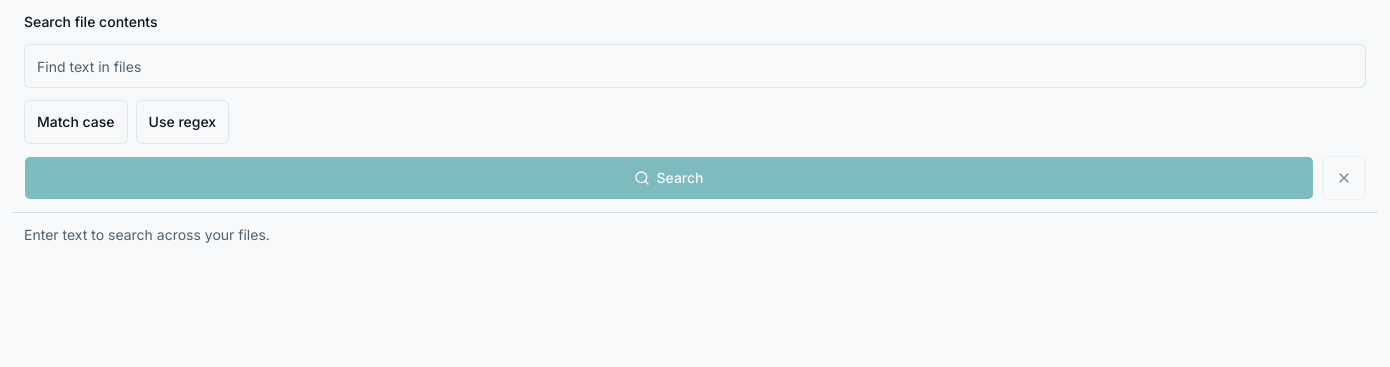
labels Solution hits read-only and does not open them as workspace files
Type "items" into the field. click: (695, 66)
box: [24,44,1366,88]
Then press Enter
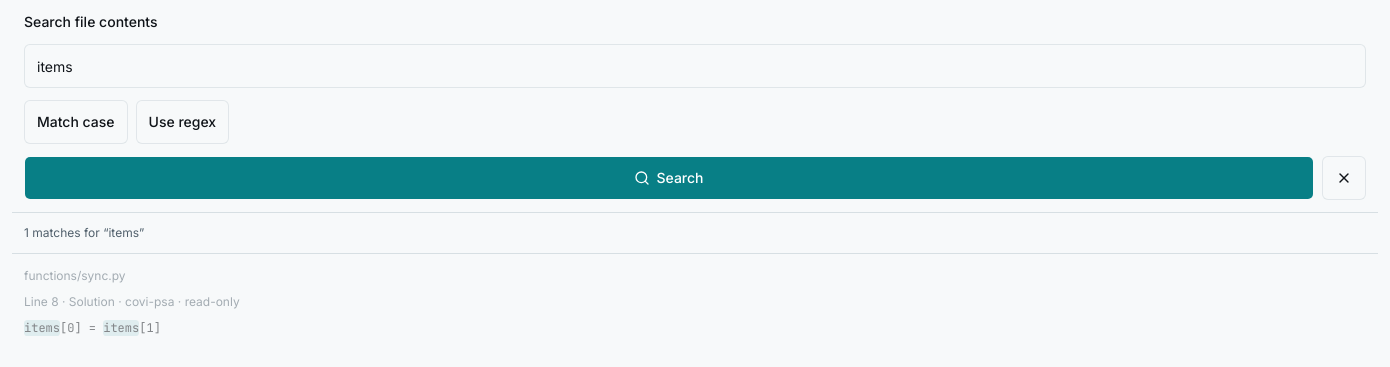
Check: the button "functions/sync.py" shows "Solution · covi-psa · read-only", box [12,254,1378,350]
Check: the button "functions/sync.py" is disabled, box [12,254,1378,350]
